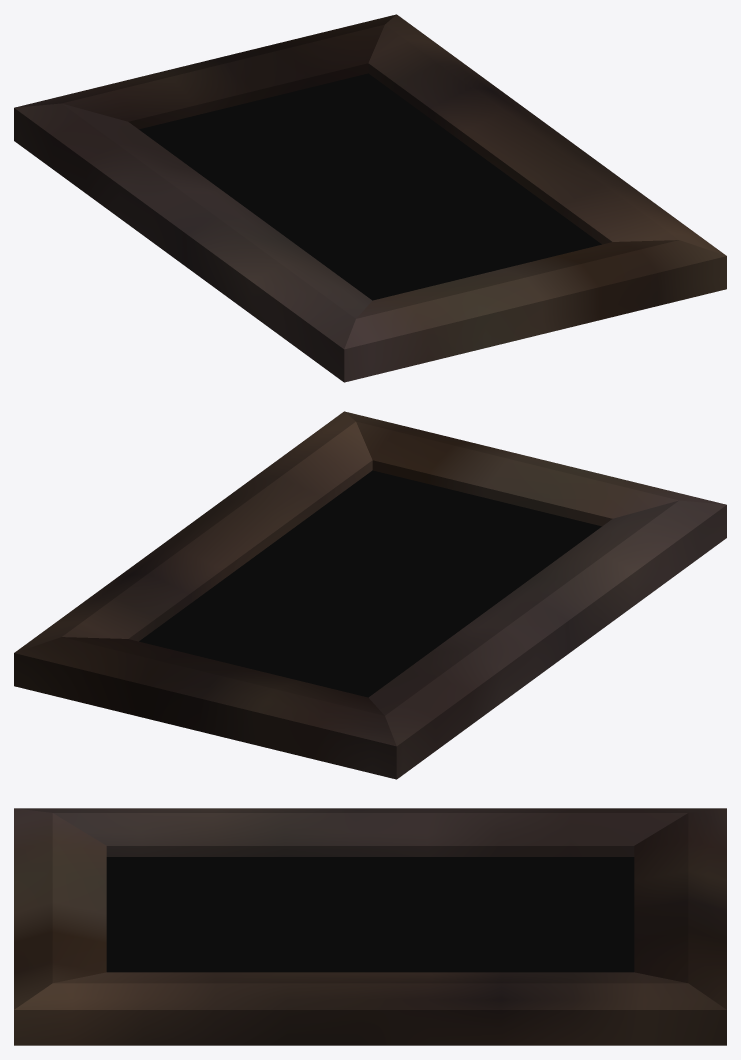
The model's file is taulu.fbx.
The picture shows the model from 3 angles, top to bottom: view 1: azimuth 30°, elevation 25°; view 2: azimuth 150°, elevation 25°; view 3: azimuth 270°, elevation 25°; orthographic projection. The views are drawn at different scales.
Parts seen in each view (by area): view 1: pCube1; view 2: pCube1; view 3: pCube1.
Boxes of the visible parts, box(x1,y1,x2,y2) form: pCube1: box(14, 14, 726, 382); pCube1: box(14, 411, 726, 779); pCube1: box(14, 808, 726, 1045).
Size of the model in its own units: 1.25 by 0.1352 by 1.87.
